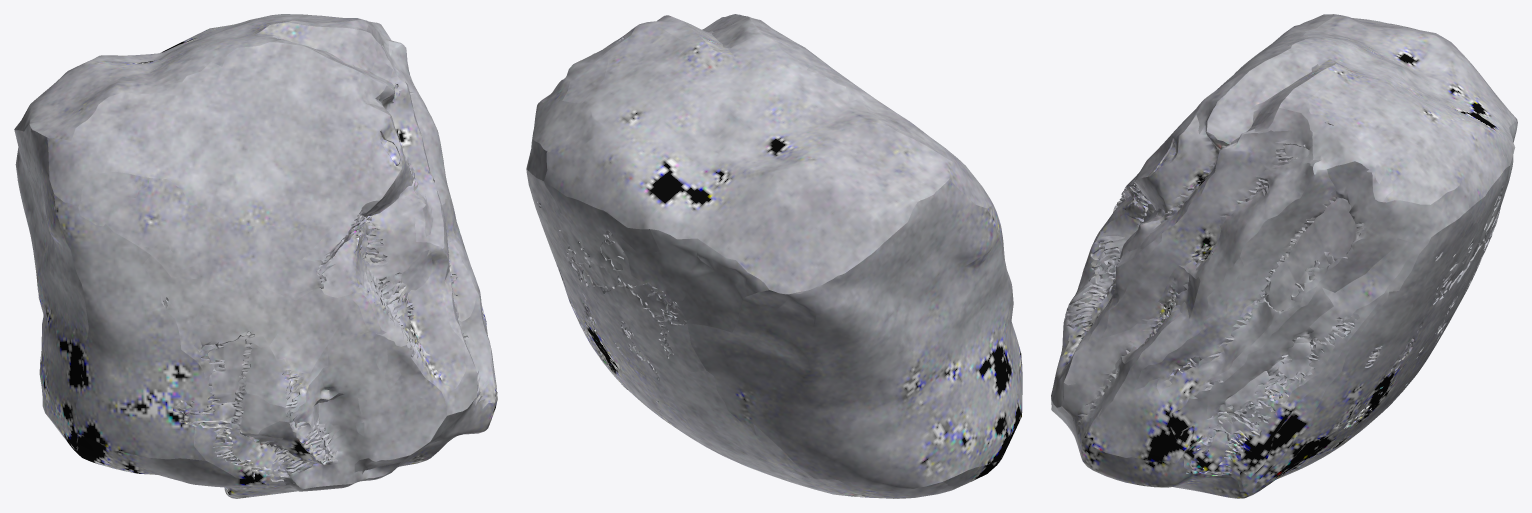
The picture shows the model from 3 angles, left to right: view 1: azimuth 30°, elevation 25°; view 2: azimuth 150°, elevation 25°; view 3: azimuth 270°, elevation 25°; orthographic projection. The views are drawn at different scales.
Parts seen in each view (by area): view 1: world; view 2: world; view 3: world.
Part boxes in pixels (x1,y1,x2,y2): world: [14, 14, 497, 498]; world: [526, 14, 1022, 498]; world: [1051, 14, 1517, 498].
Bounding box in the file's own units: 0.35 × 0.3511 × 0.3559.
1 material, 1 textured.
